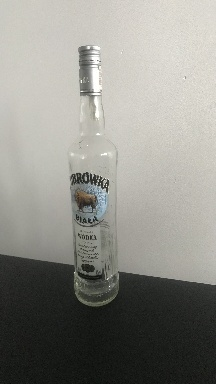butelka: (65, 42, 121, 310)
